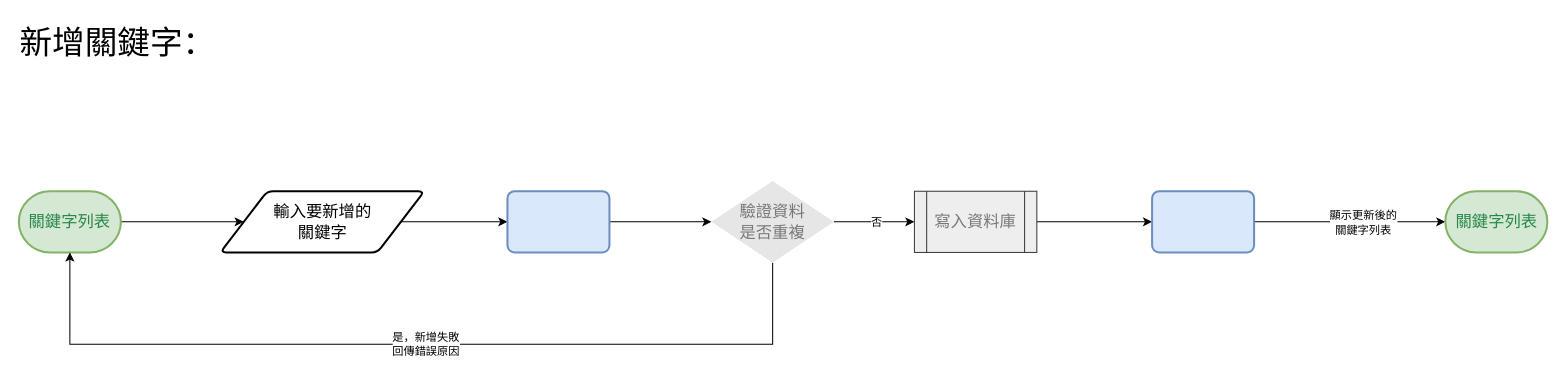
Image size: 1566x374. Some labels were removed from this diagram. The shapes that lost their labels are listed below. From the top down, each one's box as (x1, y1, x2, y2) in pixels, then its label:
(506, 190, 610, 253): 點擊新增
(1151, 190, 1255, 253): 頁面自動 重新整理
